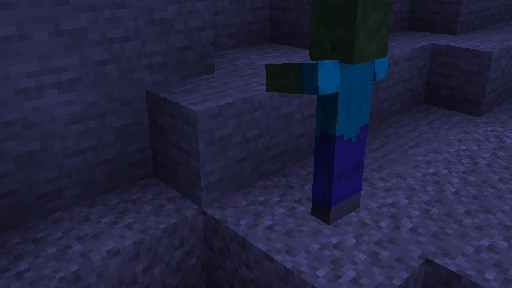zombie: (264, 0, 393, 225)
